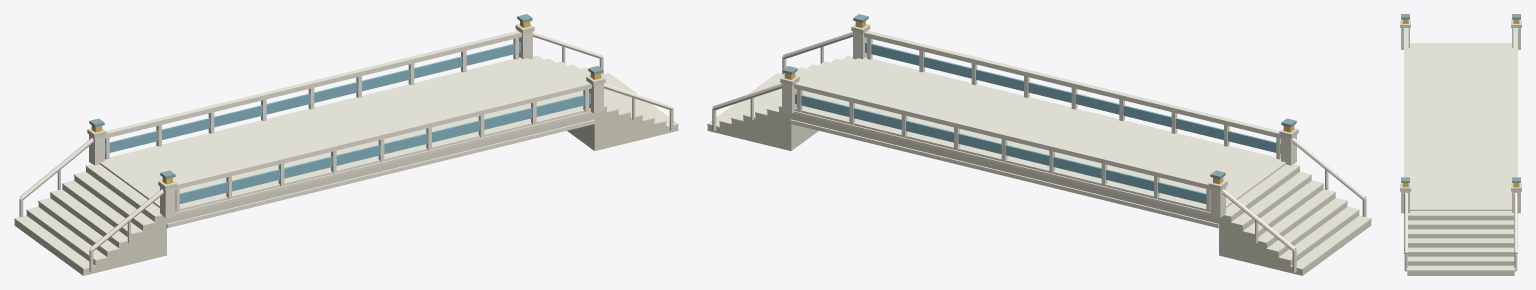
Rendered from bridge.glb.
The picture shows the model from 3 angles, left to right: view 1: azimuth 30°, elevation 25°; view 2: azimuth 150°, elevation 25°; view 3: azimuth 270°, elevation 25°; orthographic projection. The views are drawn at different scales.
Parts seen in each view (by area): view 1: Sora_Canal_Bridge_Surface; view 2: Sora_Canal_Bridge_Surface; view 3: Sora_Canal_Bridge_Surface.
Boxes of the visible parts, x1,y1,x2,y2 form: Sora_Canal_Bridge_Surface: (14,14,678,275); Sora_Canal_Bridge_Surface: (707,14,1371,275); Sora_Canal_Bridge_Surface: (1400,14,1521,275).
Size of the model in its own units: 25.01 by 3.33 by 5.67.
